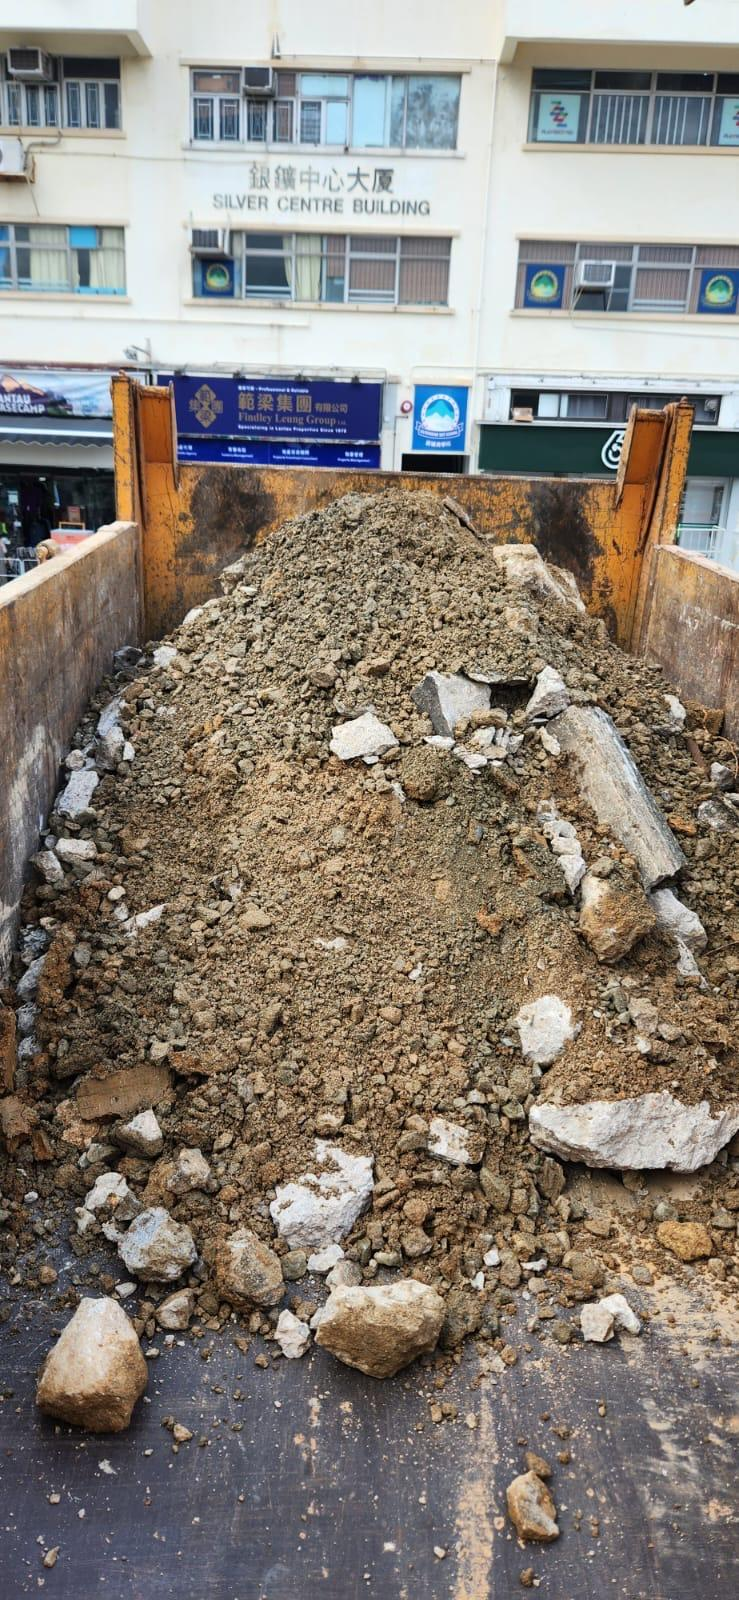wet: (12, 498, 738, 1338)
